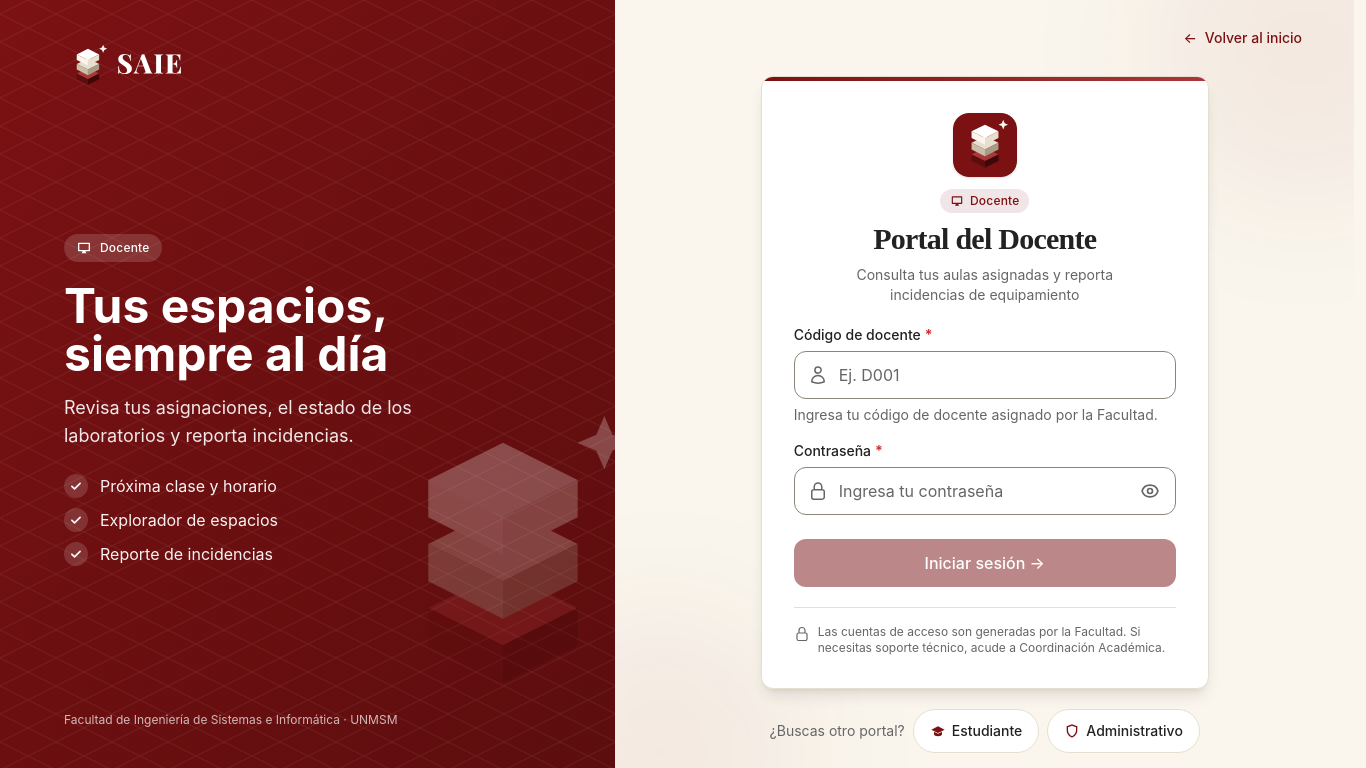
Scenario: LoginDocente (Issue #204 / 7.7) › muestra mensaje claro cuando el backend responde 401, indicando gestión por Coordinación Académica
The image size is (1366, 768).
In the field labelled "Código de docente *": (985, 375) top-left (794, 351), bottom-right (1176, 399), type "D001"
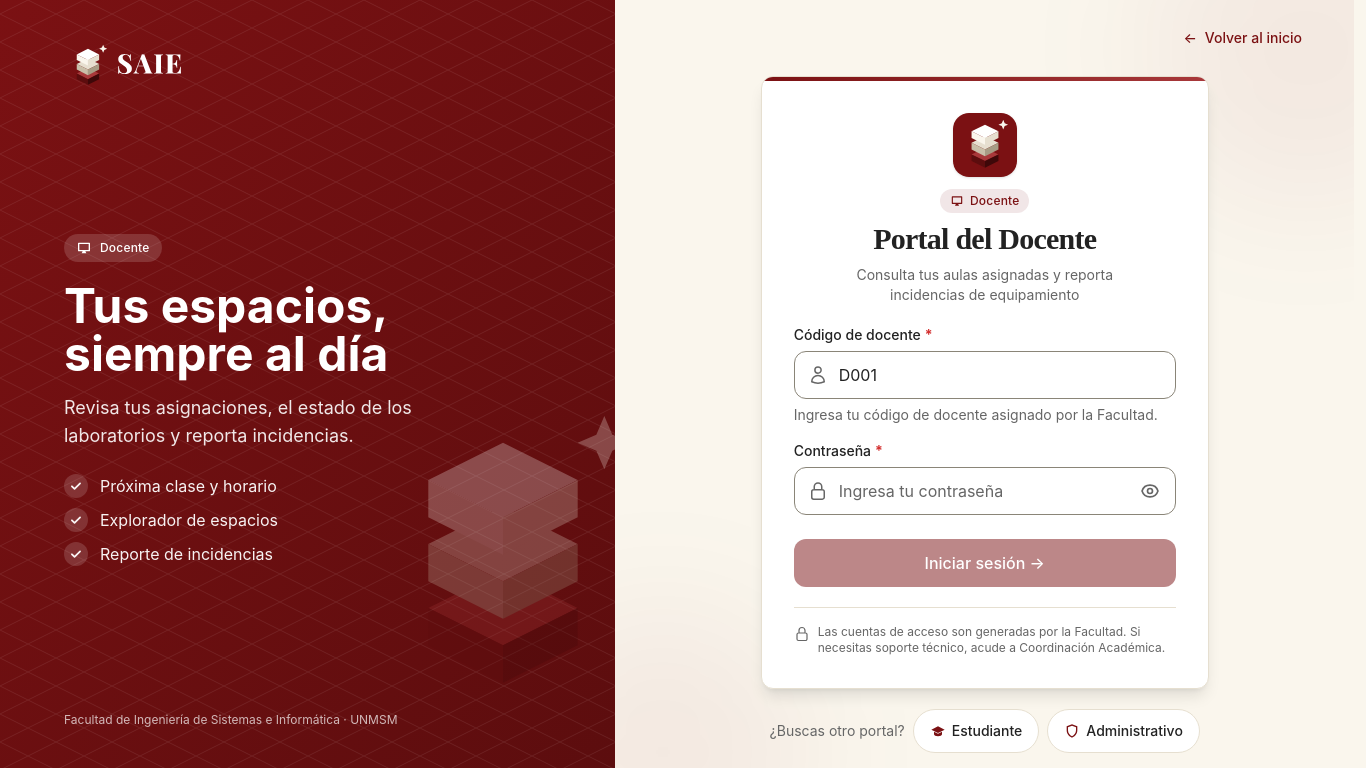
In the password field labelled "Contraseña *": (985, 491) top-left (794, 467), bottom-right (1176, 515), type "claveErronea"
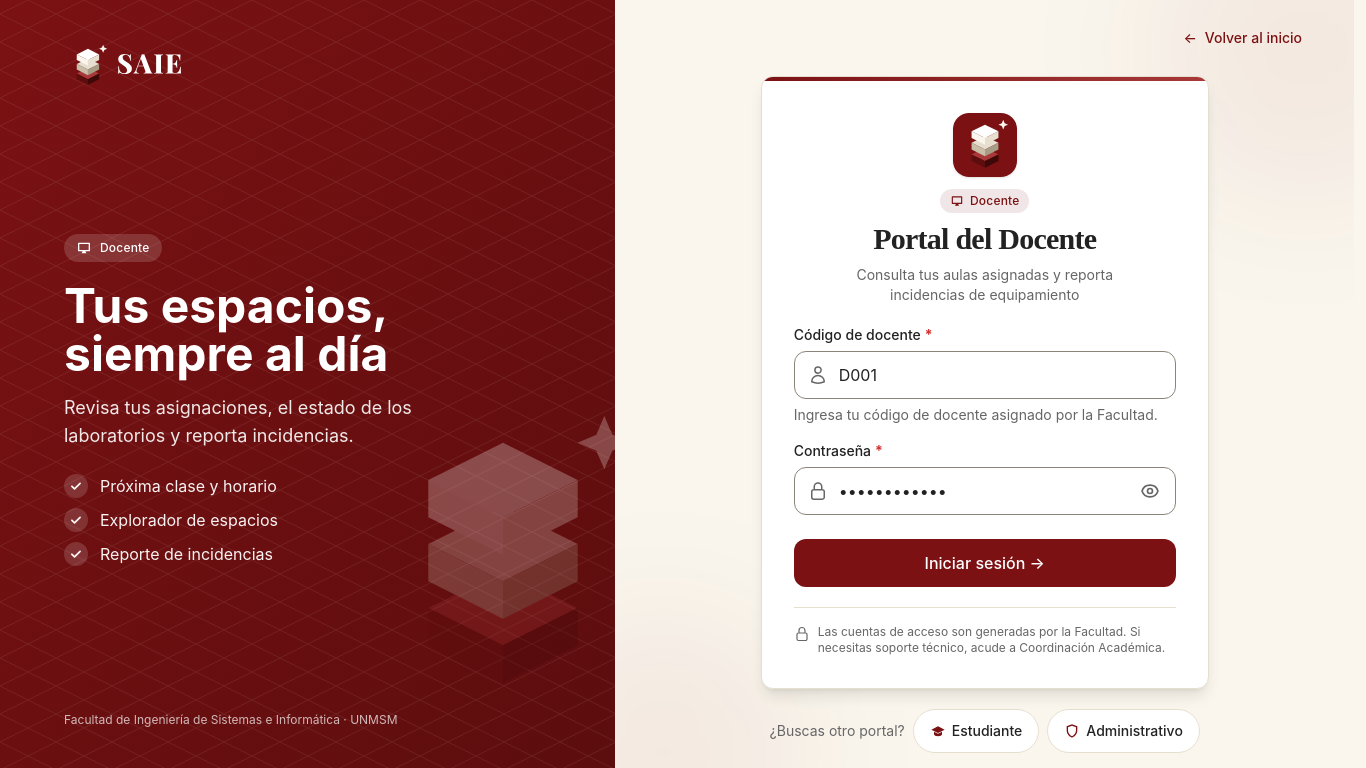
Click the button "Iniciar sesión →": (985, 563) top-left (794, 539), bottom-right (1176, 587)
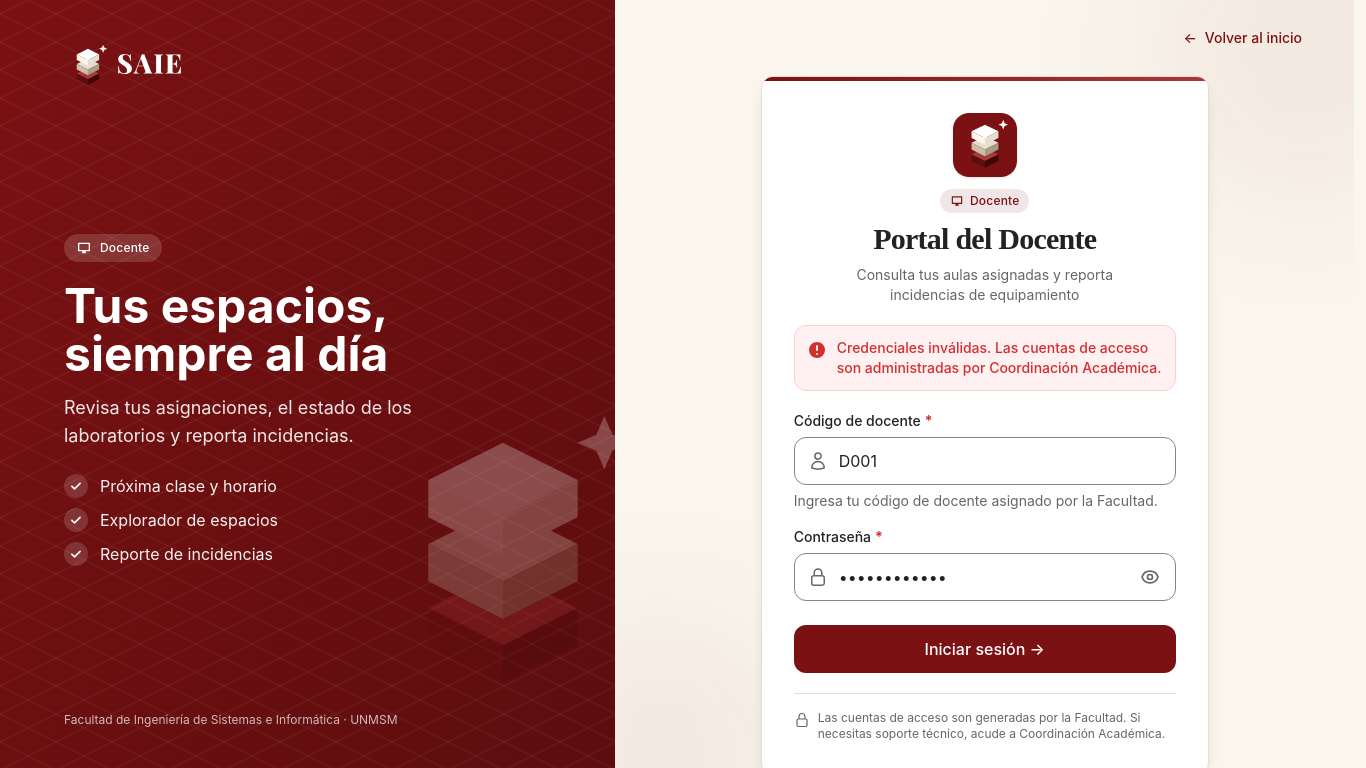
expect the message is shown: met, box top-left (794, 325), bottom-right (1176, 391)
expect the text "Credenciales inválidas. Las cuentas de acceso son administradas por Coordinación Académica" is shown: met, box top-left (837, 339), bottom-right (1162, 376)
